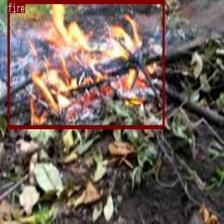fire: (8, 0, 164, 128)
